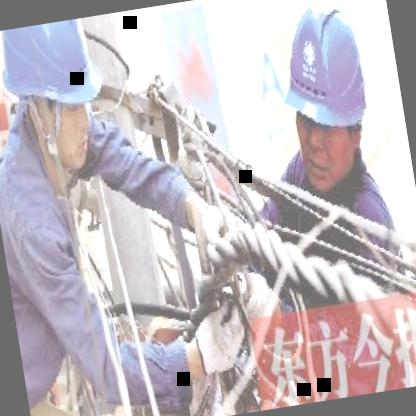helmet: (265, 0, 387, 214), (0, 15, 122, 190)
